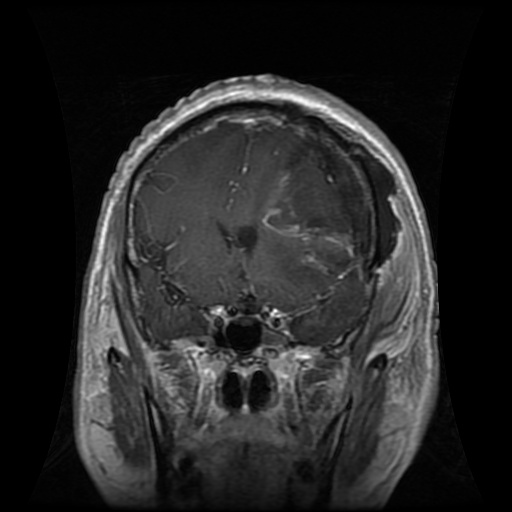glioma: (263, 130, 372, 283)
